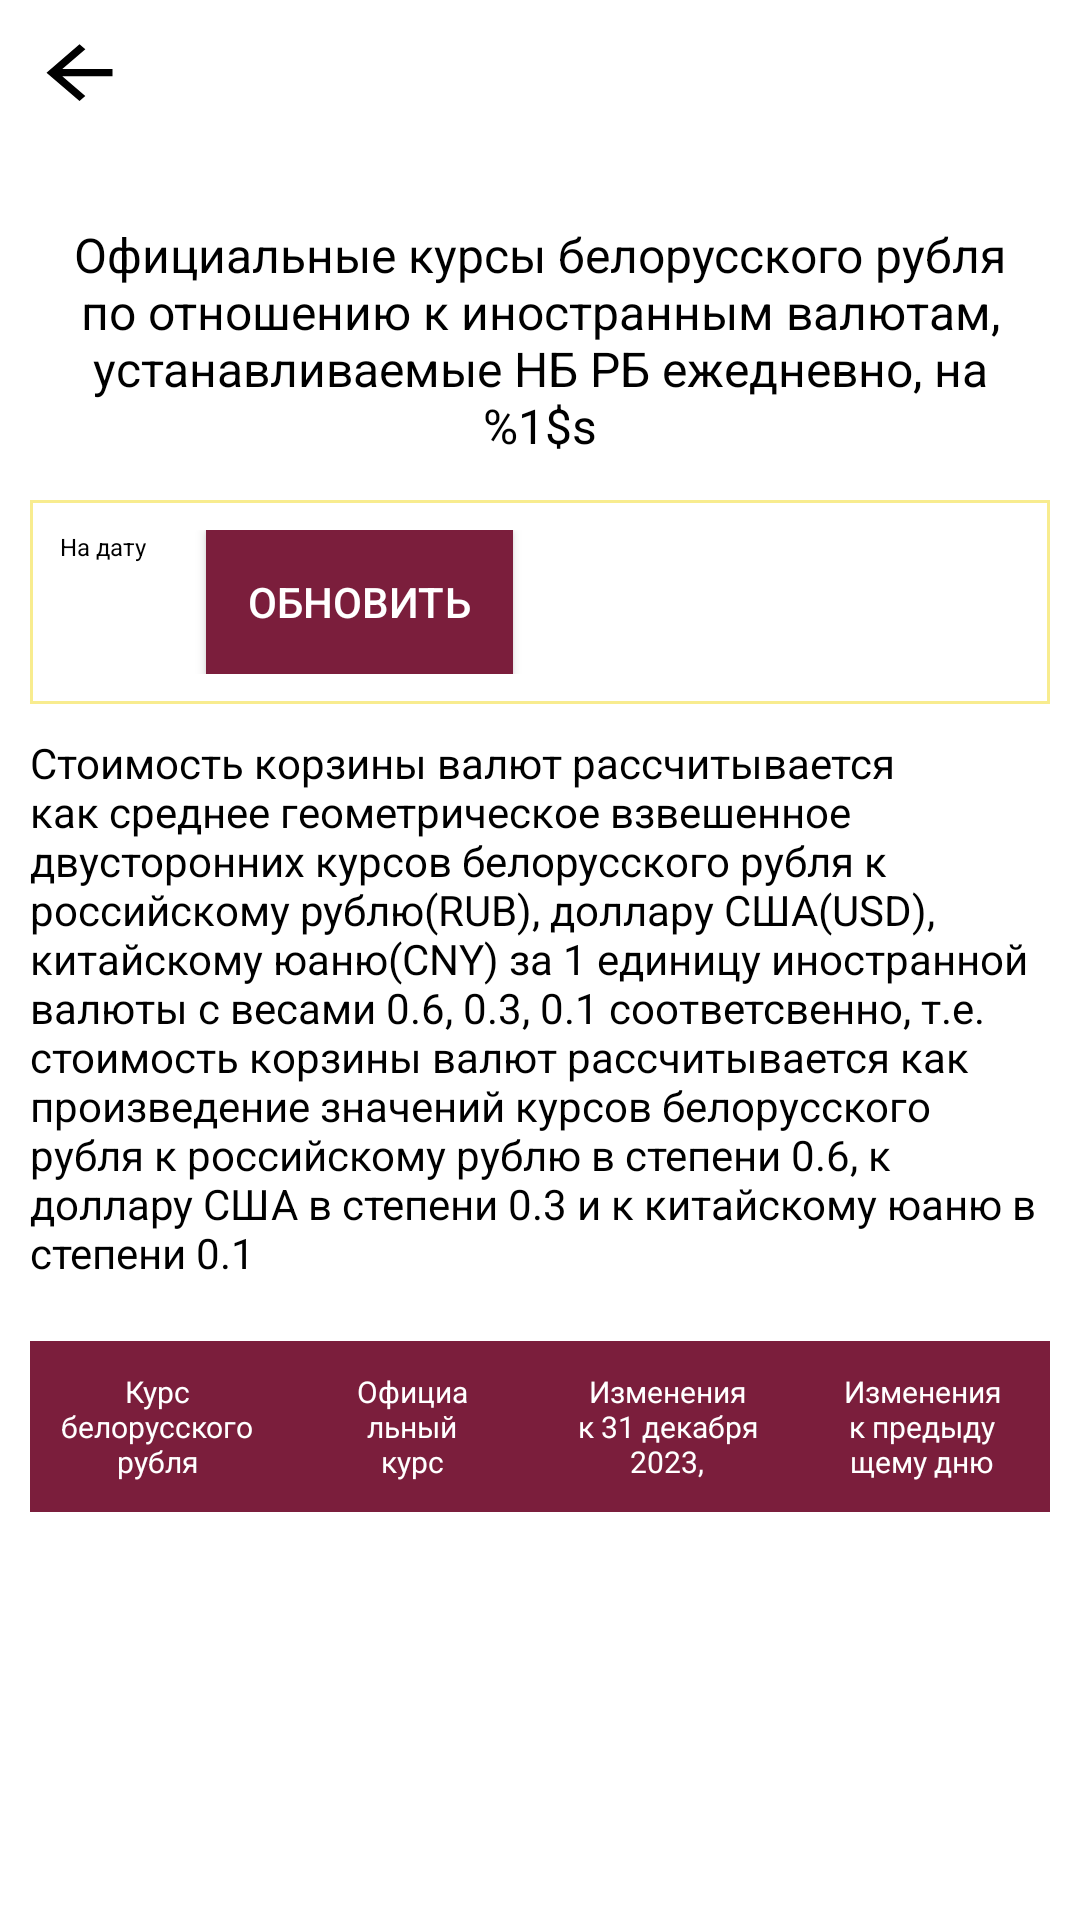

Where to tap for icons on this 1080w x 1920h app screen, as [x,y]:
arrow: [79,72]
